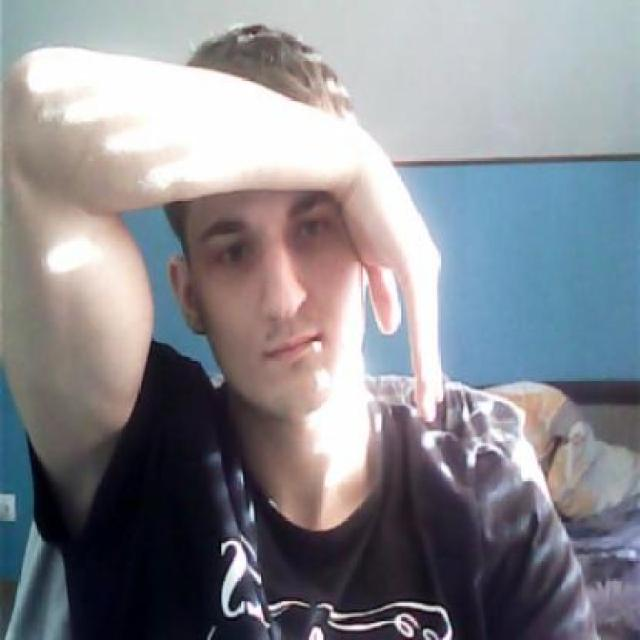awake: (292, 216, 332, 242), (216, 241, 253, 265)
